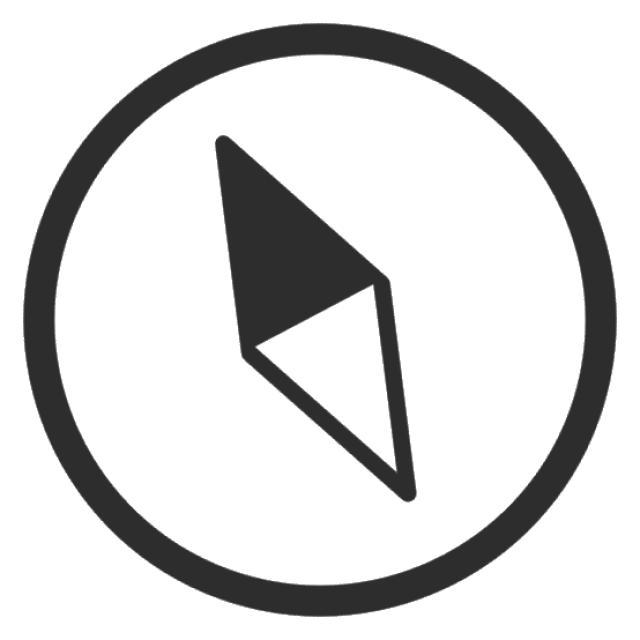compass: (15, 16, 629, 632)
